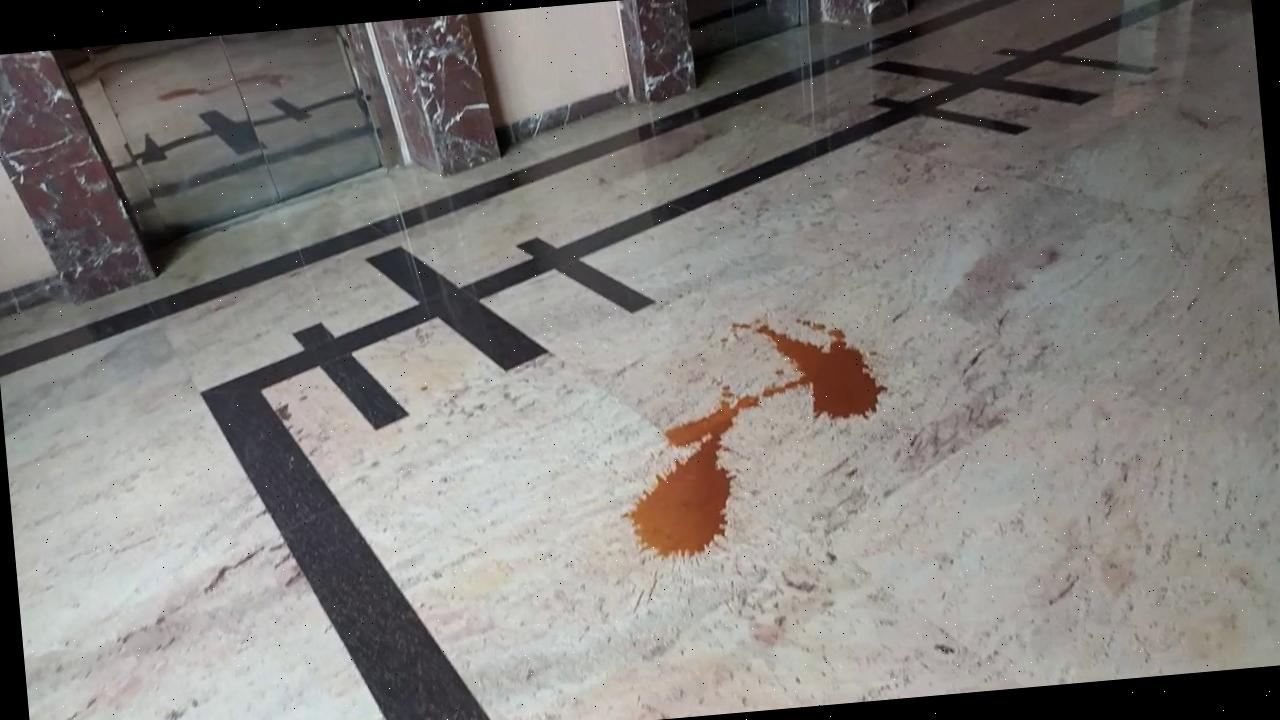dirty_floor: (612, 306, 889, 564)
